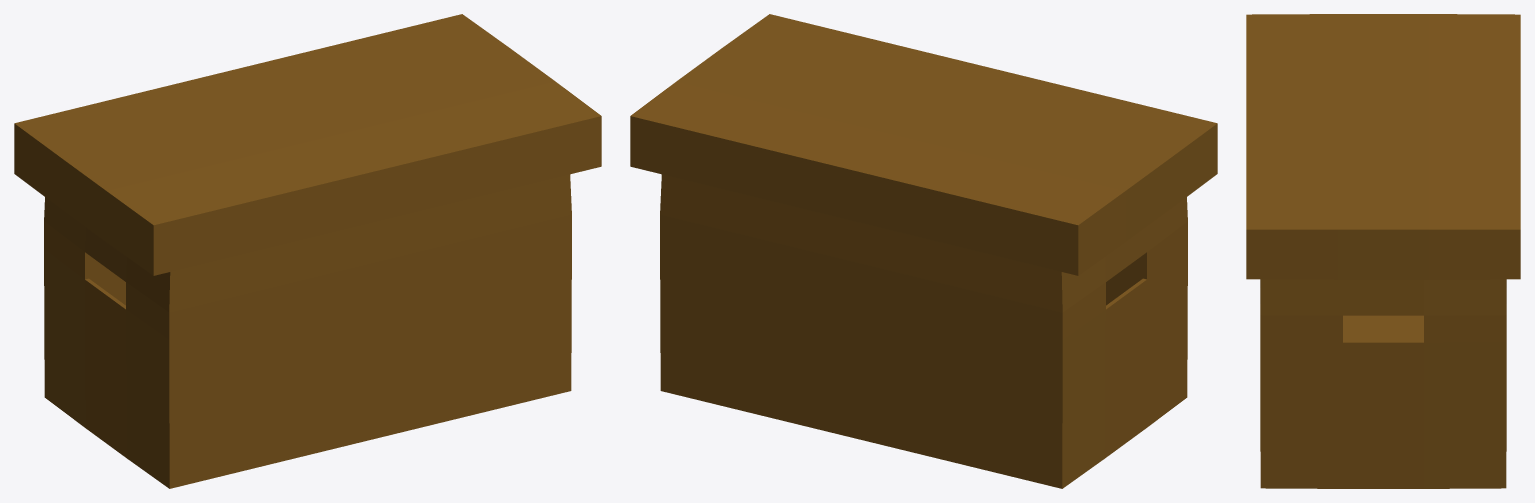
3 renders of one model, left to right at view 1: azimuth 30°, elevation 25°; view 2: azimuth 150°, elevation 25°; view 3: azimuth 270°, elevation 25°, orthographic.
Parts seen in each view (by area): view 1: 盒子; view 2: 盒子; view 3: 盒子.
Boxes of the visible parts, x1,y1,x2,y2 form: 盒子: [14, 14, 601, 488]; 盒子: [630, 14, 1217, 488]; 盒子: [1246, 14, 1520, 488].
Size of the model in its own units: 132 by 77.55 by 71.22.
